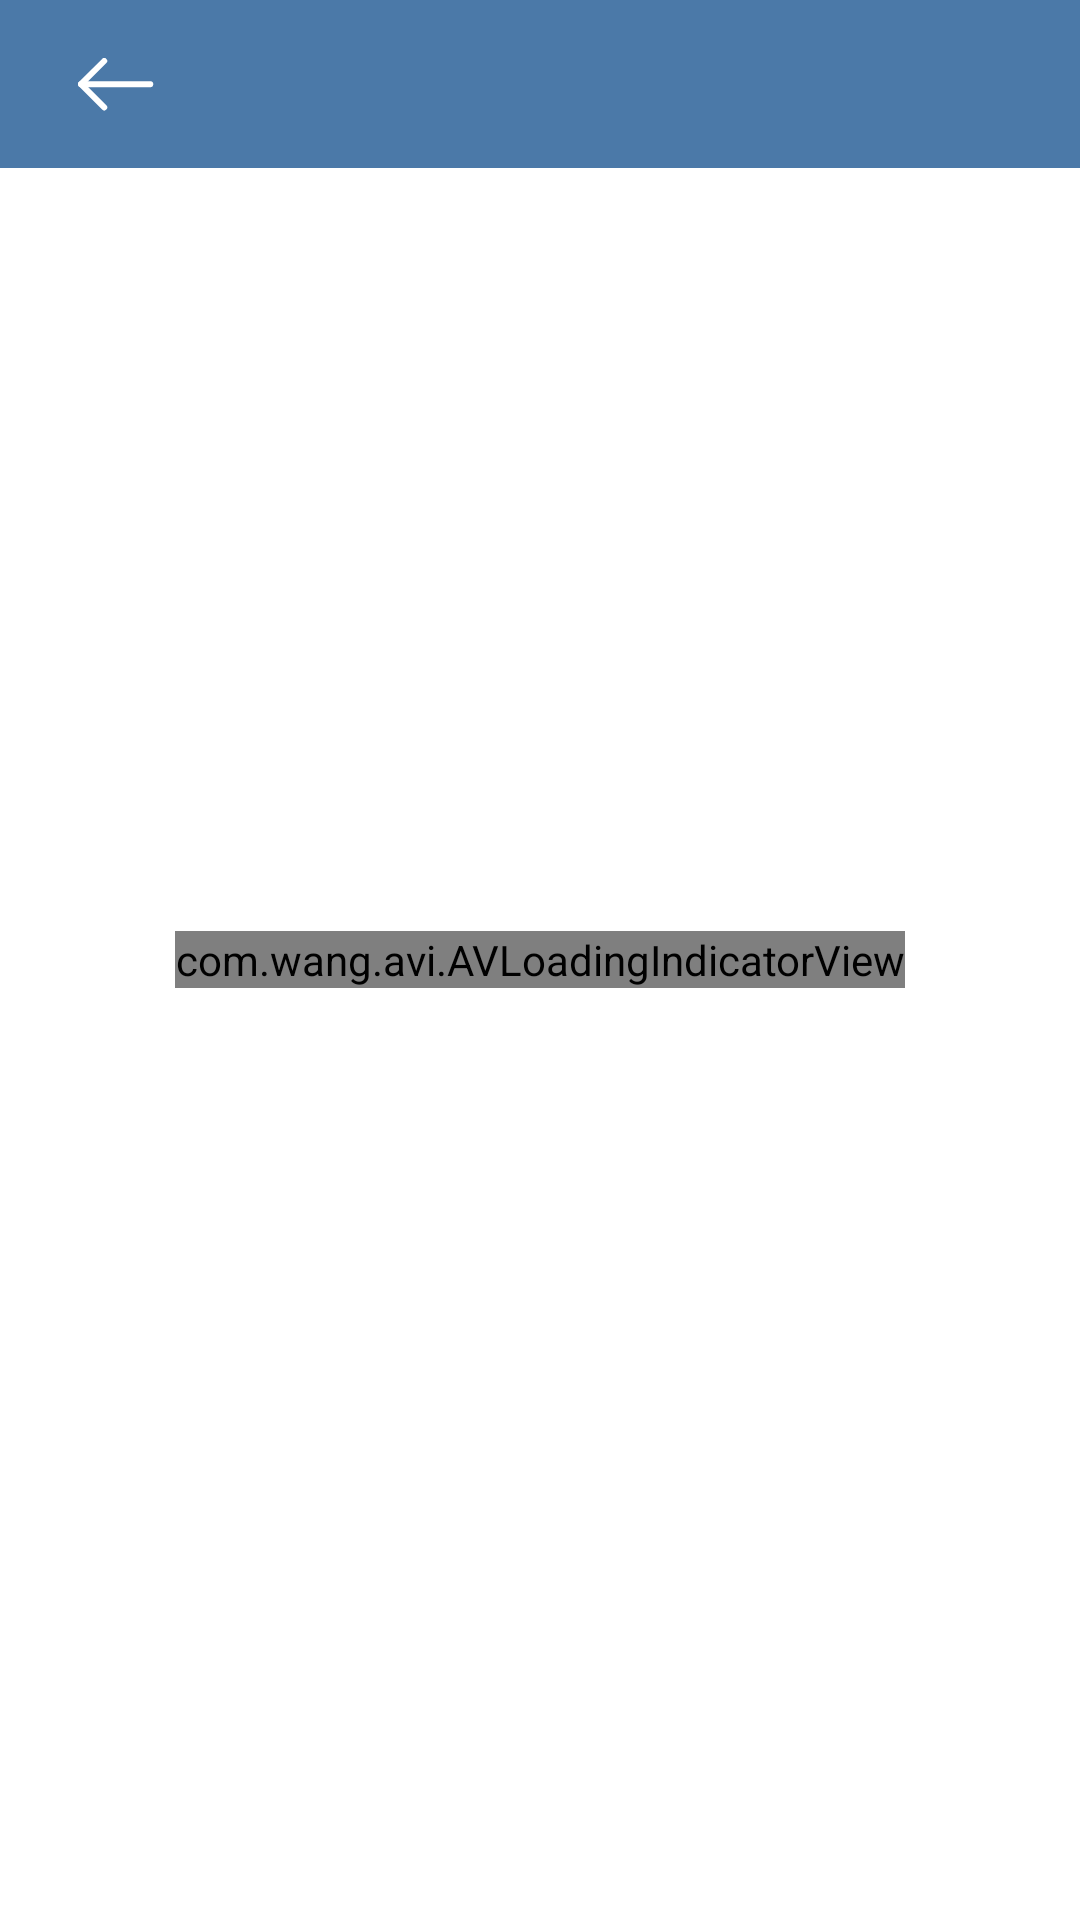

Named icons in this screenshot (1080x1920) and their centers, [x,y]:
back: [116,84]
